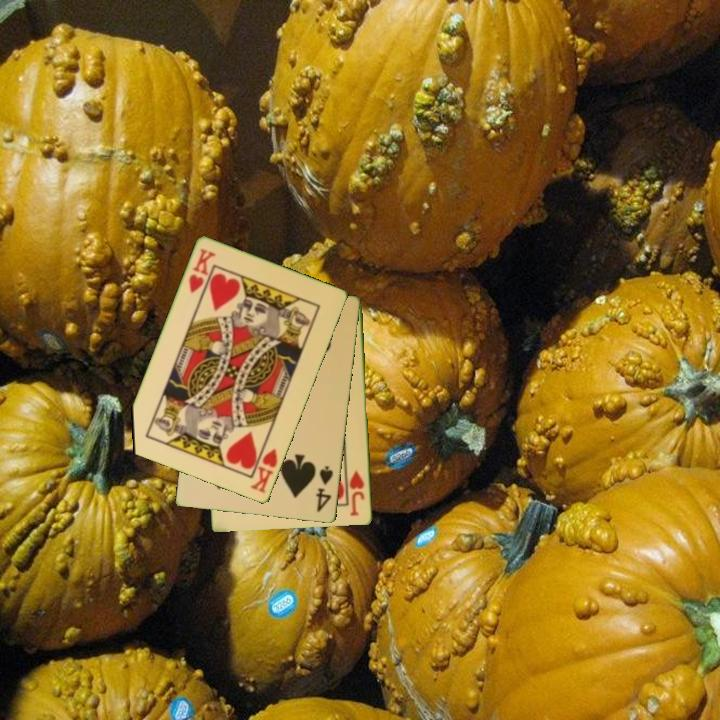4s: (313, 463, 336, 515)
Jh: (346, 467, 368, 519)
Kh: (247, 438, 281, 496), (185, 245, 219, 297)
